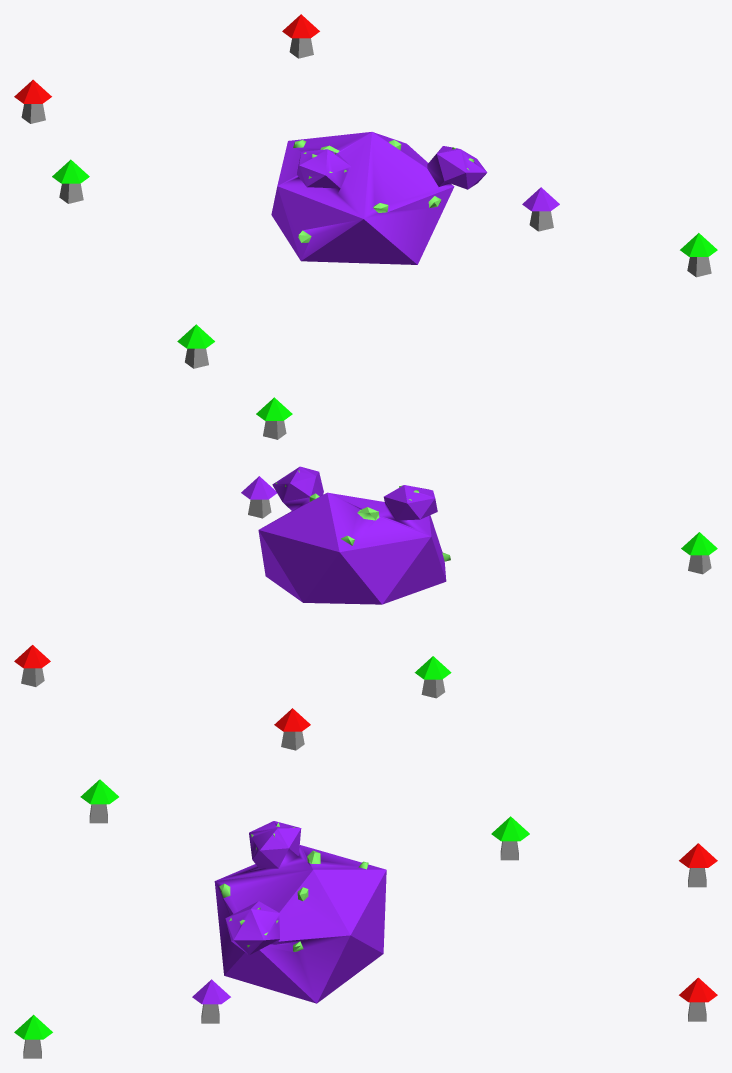
File: Rock3_1.obj
The picture shows the model from 3 angles, top to bottom: view 1: azimuth 30°, elevation 25°; view 2: azimuth 150°, elevation 25°; view 3: azimuth 270°, elevation 25°; orthographic projection. The views are drawn at different scales.
Visible parts, largest first — view 1: Icosphere.000_Icosphere.002, Mushroom_Red_01.028, Mushroom_Red_01.030, Mushroom_Red_01.001, Mushroom_Red_01.025, Mushroom_Red_01.027, Mushroom_Red_01.033; view 2: Icosphere.000_Icosphere.002, Mushroom_Red_01.001, Mushroom_Red_01.025, Mushroom_Red_01.030, Mushroom_Red_01.028, Mushroom_Red_01.033, Mushroom_Red_01.027; view 3: Icosphere.000_Icosphere.002, Mushroom_Red_01.030, Mushroom_Red_01.028, Mushroom_Red_01.001, Mushroom_Red_01.025, Mushroom_Red_01.027, Mushroom_Red_01.033.
Boxes of the visible parts, x1=… form: Icosphere.000_Icosphere.002: x1=271, y1=132, x2=487, y2=264; Mushroom_Red_01.028: x1=52, y1=159, x2=89, y2=203; Mushroom_Red_01.030: x1=14, y1=79, x2=51, y2=123; Mushroom_Red_01.001: x1=522, y1=187, x2=559, y2=231; Mushroom_Red_01.025: x1=177, y1=324, x2=214, y2=368; Mushroom_Red_01.027: x1=282, y1=14, x2=319, y2=58; Mushroom_Red_01.033: x1=680, y1=233, x2=717, y2=277; Icosphere.000_Icosphere.002: x1=258, y1=466, x2=450, y2=604; Mushroom_Red_01.001: x1=241, y1=476, x2=276, y2=518; Mushroom_Red_01.025: x1=681, y1=532, x2=717, y2=574; Mushroom_Red_01.030: x1=274, y1=708, x2=310, y2=750; Mushroom_Red_01.028: x1=414, y1=656, x2=451, y2=698; Mushroom_Red_01.033: x1=256, y1=397, x2=292, y2=439; Mushroom_Red_01.027: x1=14, y1=645, x2=50, y2=686; Icosphere.000_Icosphere.002: x1=214, y1=821, x2=386, y2=1003; Mushroom_Red_01.030: x1=679, y1=843, x2=717, y2=887; Mushroom_Red_01.028: x1=491, y1=816, x2=529, y2=860; Mushroom_Red_01.001: x1=192, y1=979, x2=230, y2=1023; Mushroom_Red_01.025: x1=80, y1=779, x2=118, y2=823; Mushroom_Red_01.027: x1=679, y1=977, x2=717, y2=1021; Mushroom_Red_01.033: x1=14, y1=1014, x2=52, y2=1058.
Bounding box in the file's own units: 52.71 × 11.6 × 62.68.
Materials: 2 (2 with a texture image).
